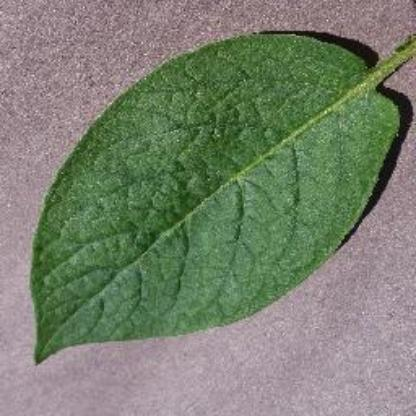Healthy-plant: (31, 29, 415, 370)
